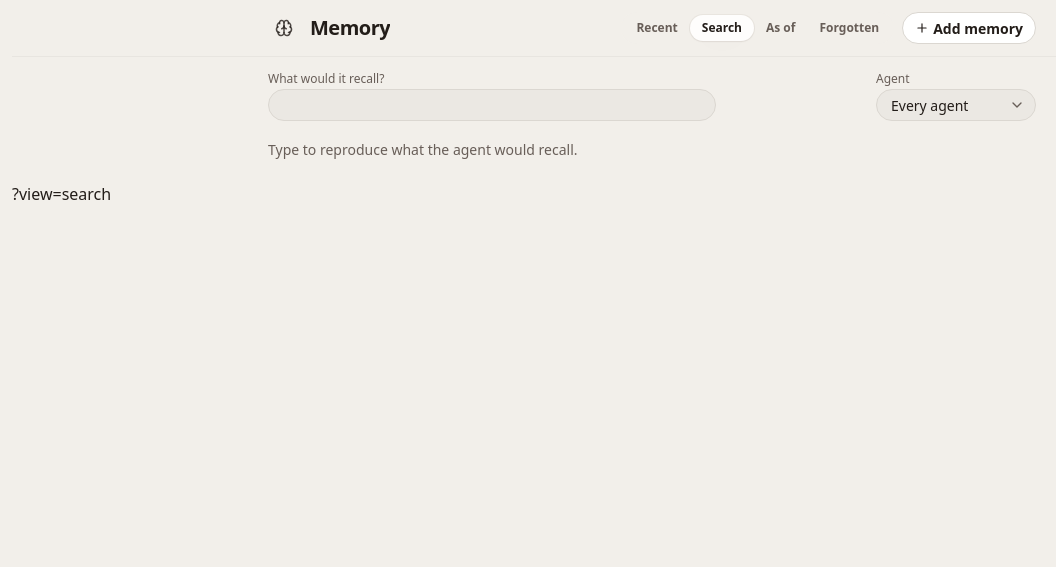
Scenario: adding › hides the view inputs while the form is open, so two forms are never stacked
Expected: the search field labelled "What would it recall?" is shown, top-left (268, 89), bottom-right (716, 121)
Click the button "Add memory" at (969,28), box top-left (902, 12), bottom-right (1036, 44)
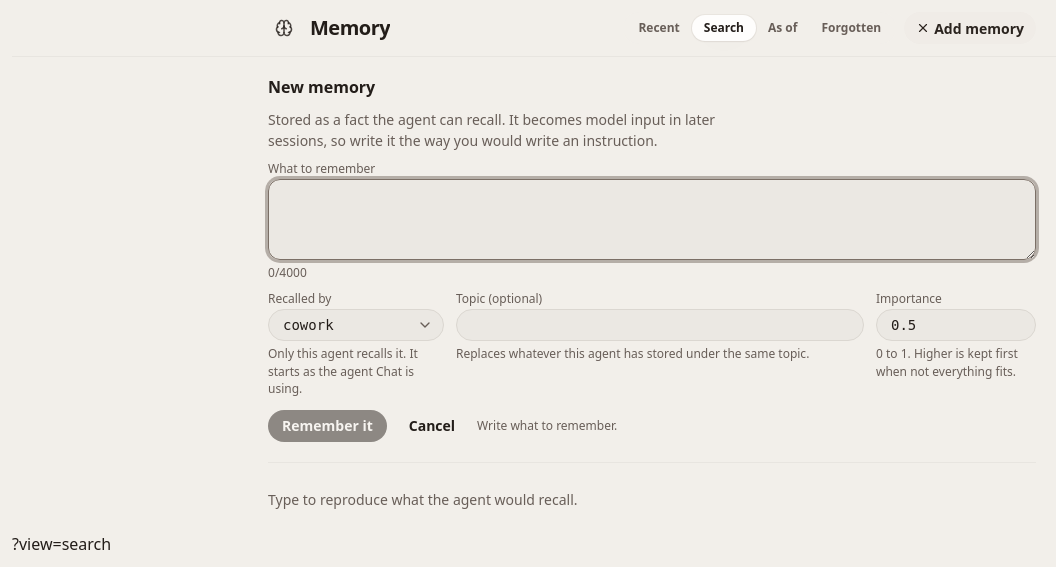
Now the label labelled "What would it recall?" is gone
